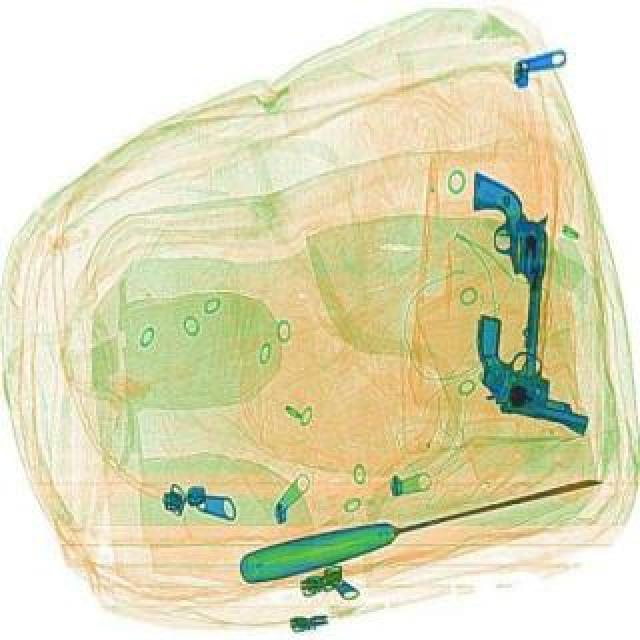gun: (460, 168, 552, 384), (454, 312, 610, 434)
knife: (234, 462, 606, 584)
